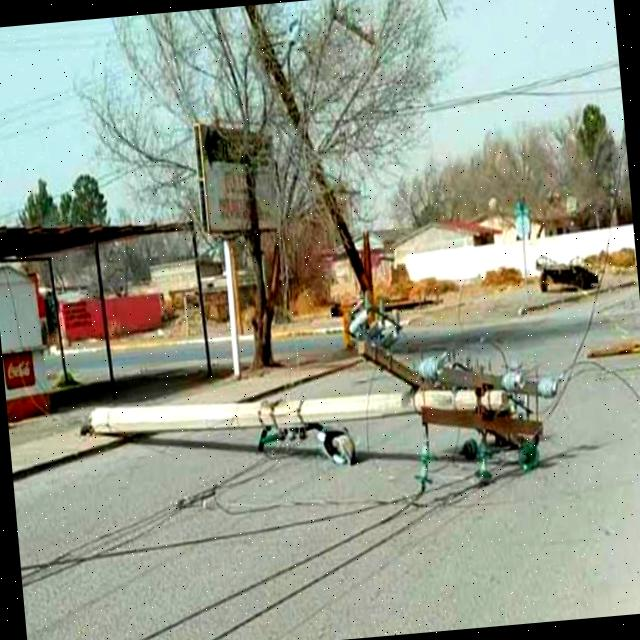Broken Pole: (81, 285, 560, 502)
